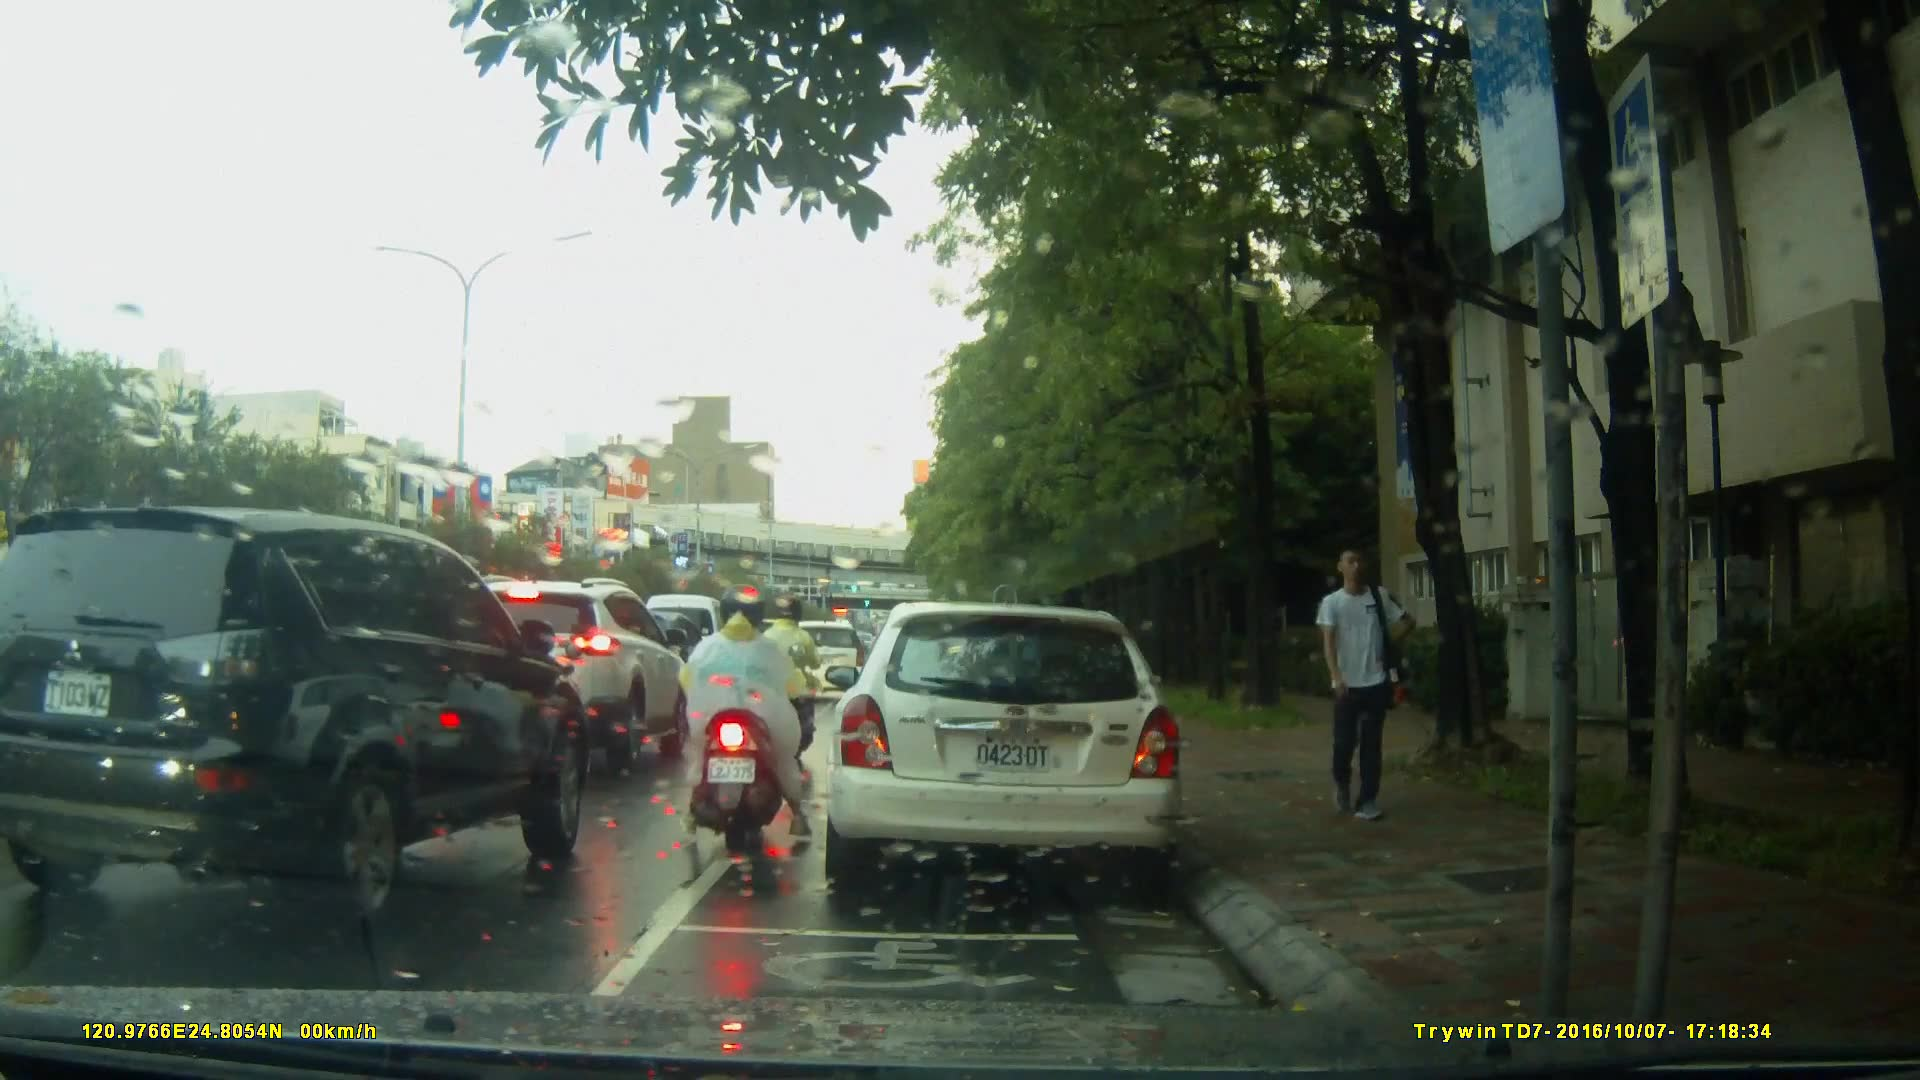pedestrian: (1298, 541, 1412, 832)
rider: (683, 593, 814, 856), (752, 596, 828, 760)
vehicle: (1, 506, 601, 925), (820, 602, 1188, 898), (410, 573, 696, 768), (634, 592, 746, 710), (772, 618, 871, 706)
